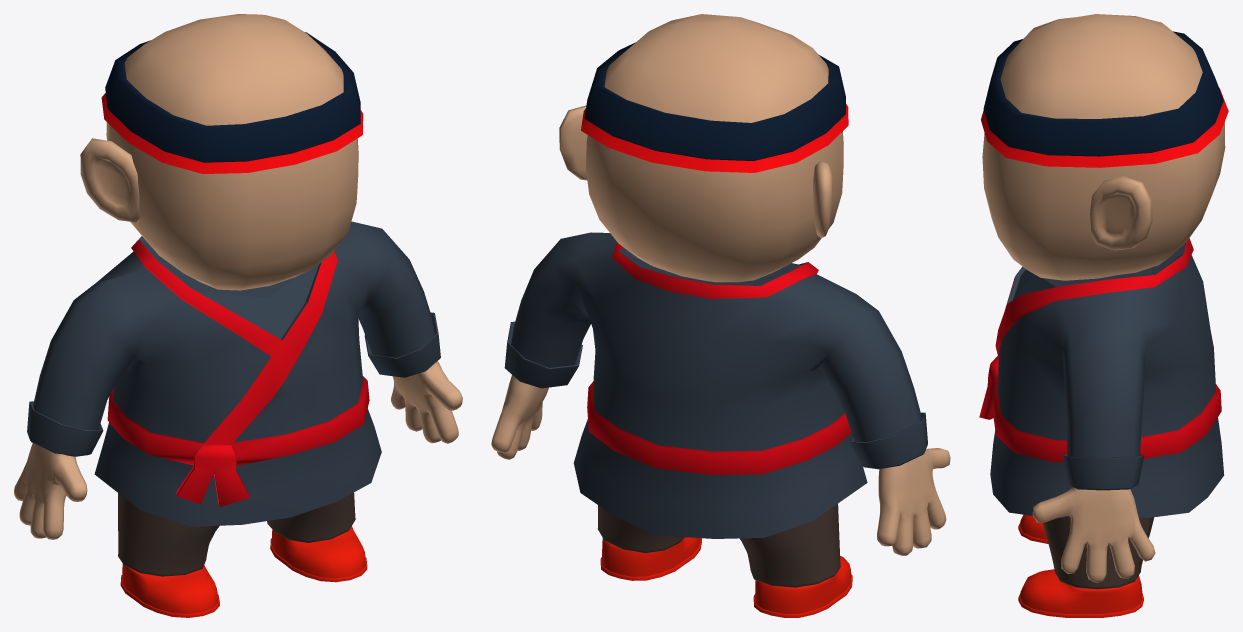
Rendered from Japanese.glb.
3 renders of one model, left to right at view 1: azimuth 30°, elevation 25°; view 2: azimuth 150°, elevation 25°; view 3: azimuth 270°, elevation 25°, orthographic. The views are drawn at different scales.
Visible parts, largest first — view 1: Japo; view 2: Japo; view 3: Japo.
Part boxes in pixels (x1,y1,x2,y2): Japo: [14, 14, 462, 617]; Japo: [491, 14, 950, 617]; Japo: [979, 14, 1228, 617].
Size of the model in its own units: 1.01 by 1.27 by 0.5305.
